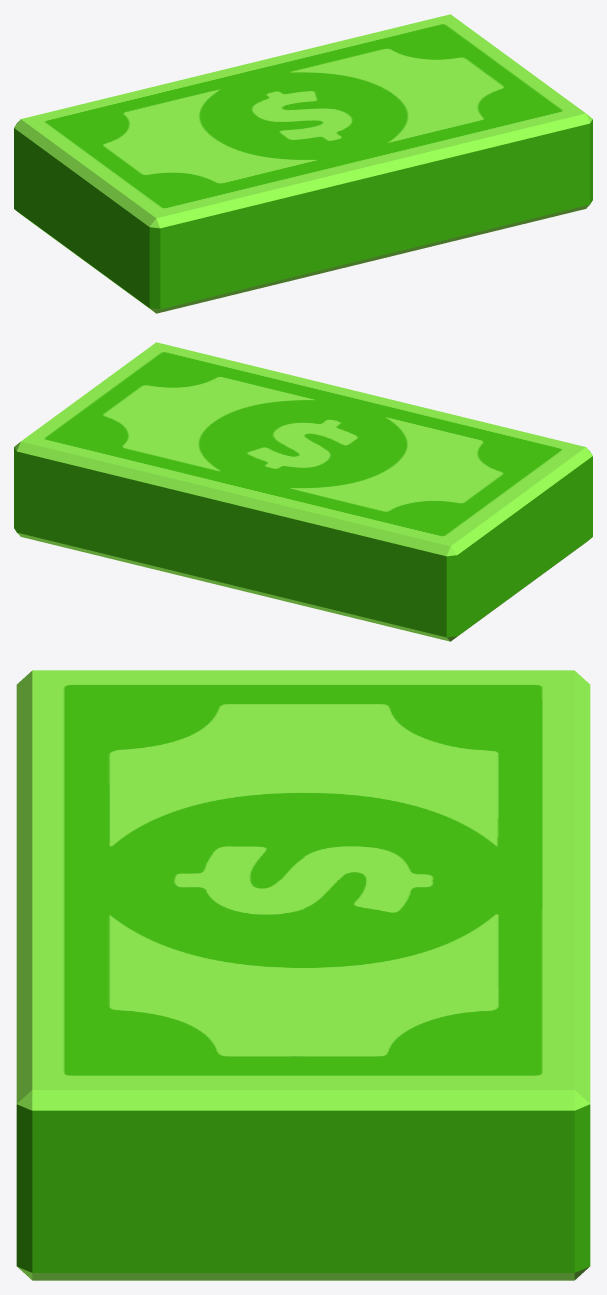
Rendered from MoneyModel.fbx.
3 views of the same model, one above another, from view 1: azimuth 30°, elevation 25°; view 2: azimuth 150°, elevation 25°; view 3: azimuth 270°, elevation 25° (orthographic). The views are drawn at different scales.
Visible parts, largest first — view 1: pCube1; view 2: pCube1; view 3: pCube1.
Part boxes in pixels (<box>): pCube1: <box>14,14,592,313</box>; pCube1: <box>14,342,592,641</box>; pCube1: <box>16,670,590,1280</box>.
Bounding box in the file's own units: 7.2 × 1.48 × 4.04.
Materials: 1 (1 with a texture image).
